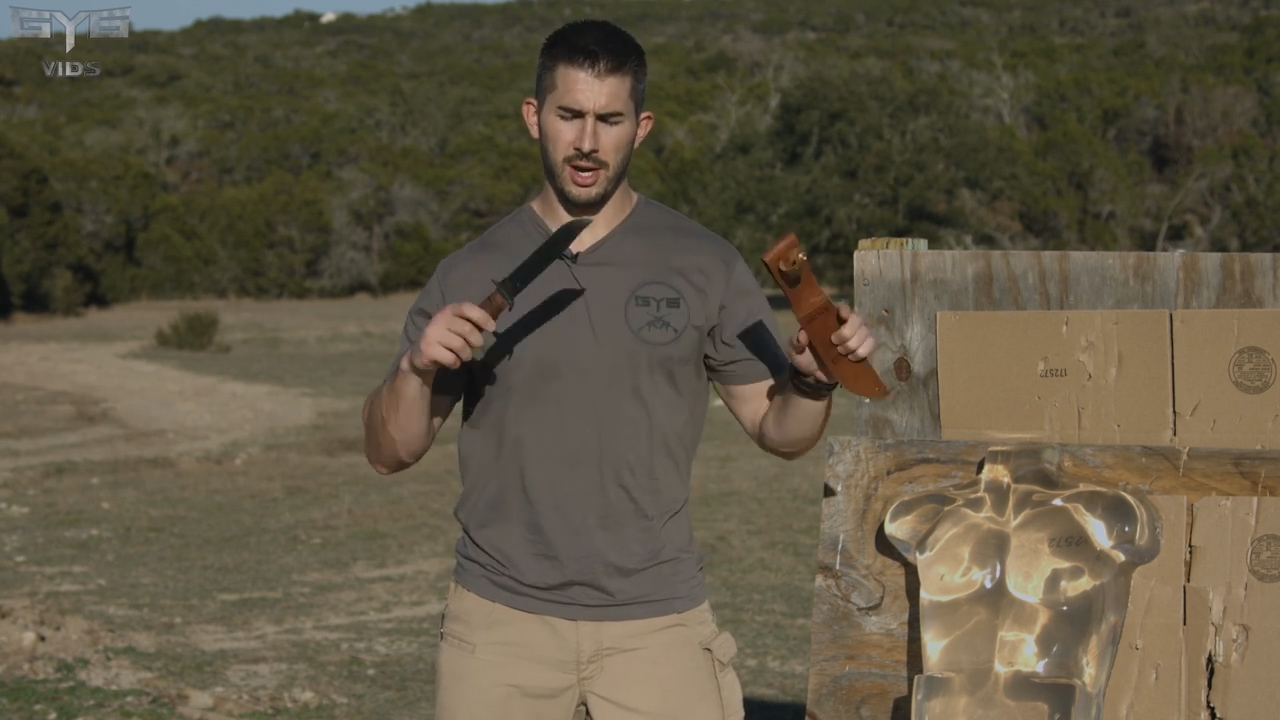knife: (424, 201, 603, 365)
